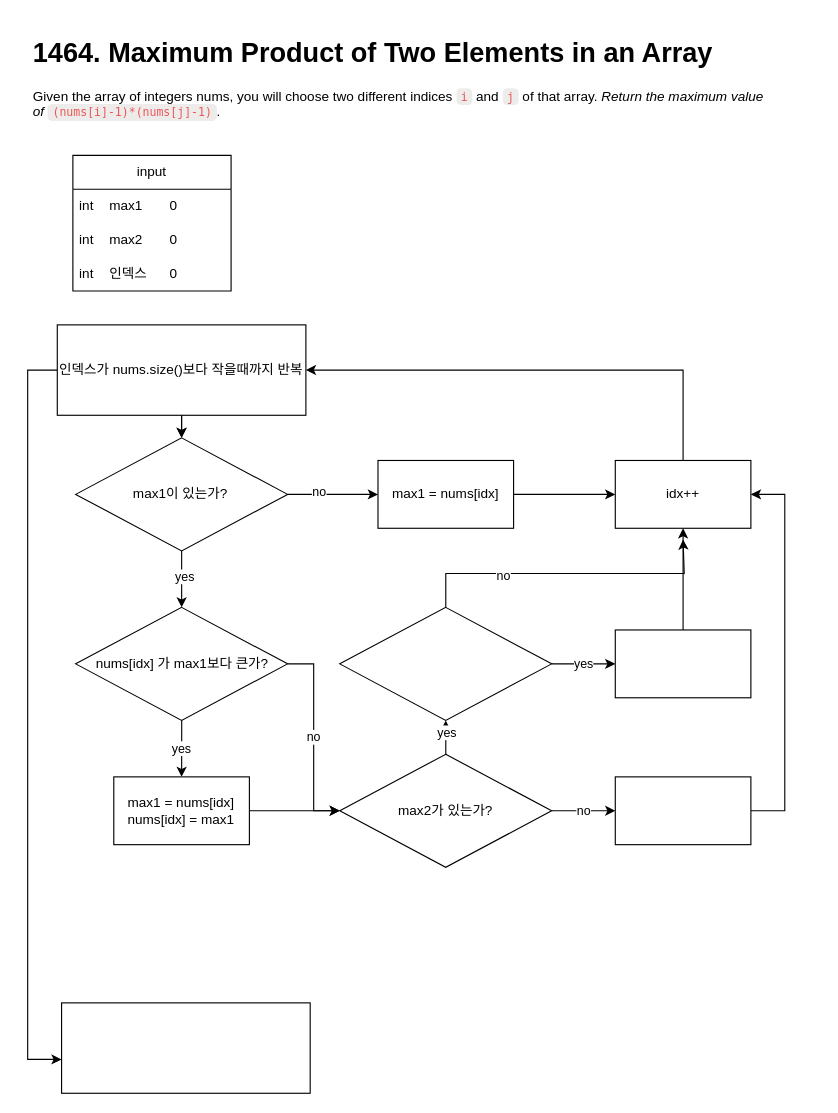
The diagram is 838 pixels wide and 1113 high, and some of its shapes have lost their labels. Here are the shapes that lost their labels. From the top down, the centre of each, then its label:
At (x=445, y=663): "nums[idx] 가 max2 보다 큰가?".
At (x=682, y=663): "max2 = nums[idx] nums[idx] = max2".
At (x=682, y=810): "max2 = nums[idx]".
At (x=185, y=1047): "return (max1 - 1) * (max2 - 1)".
